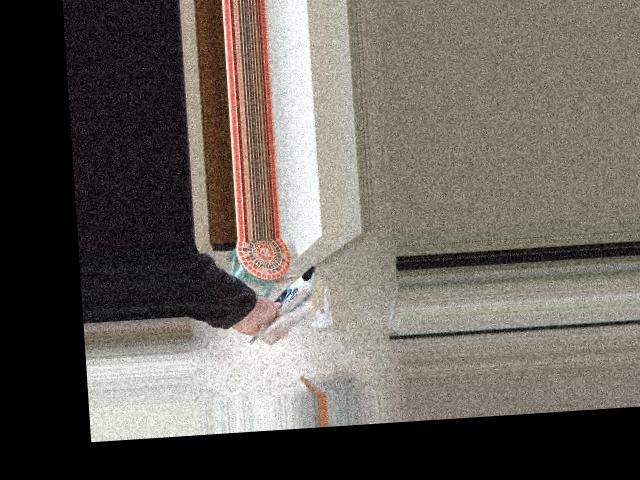cheese: (229, 253, 341, 356)
